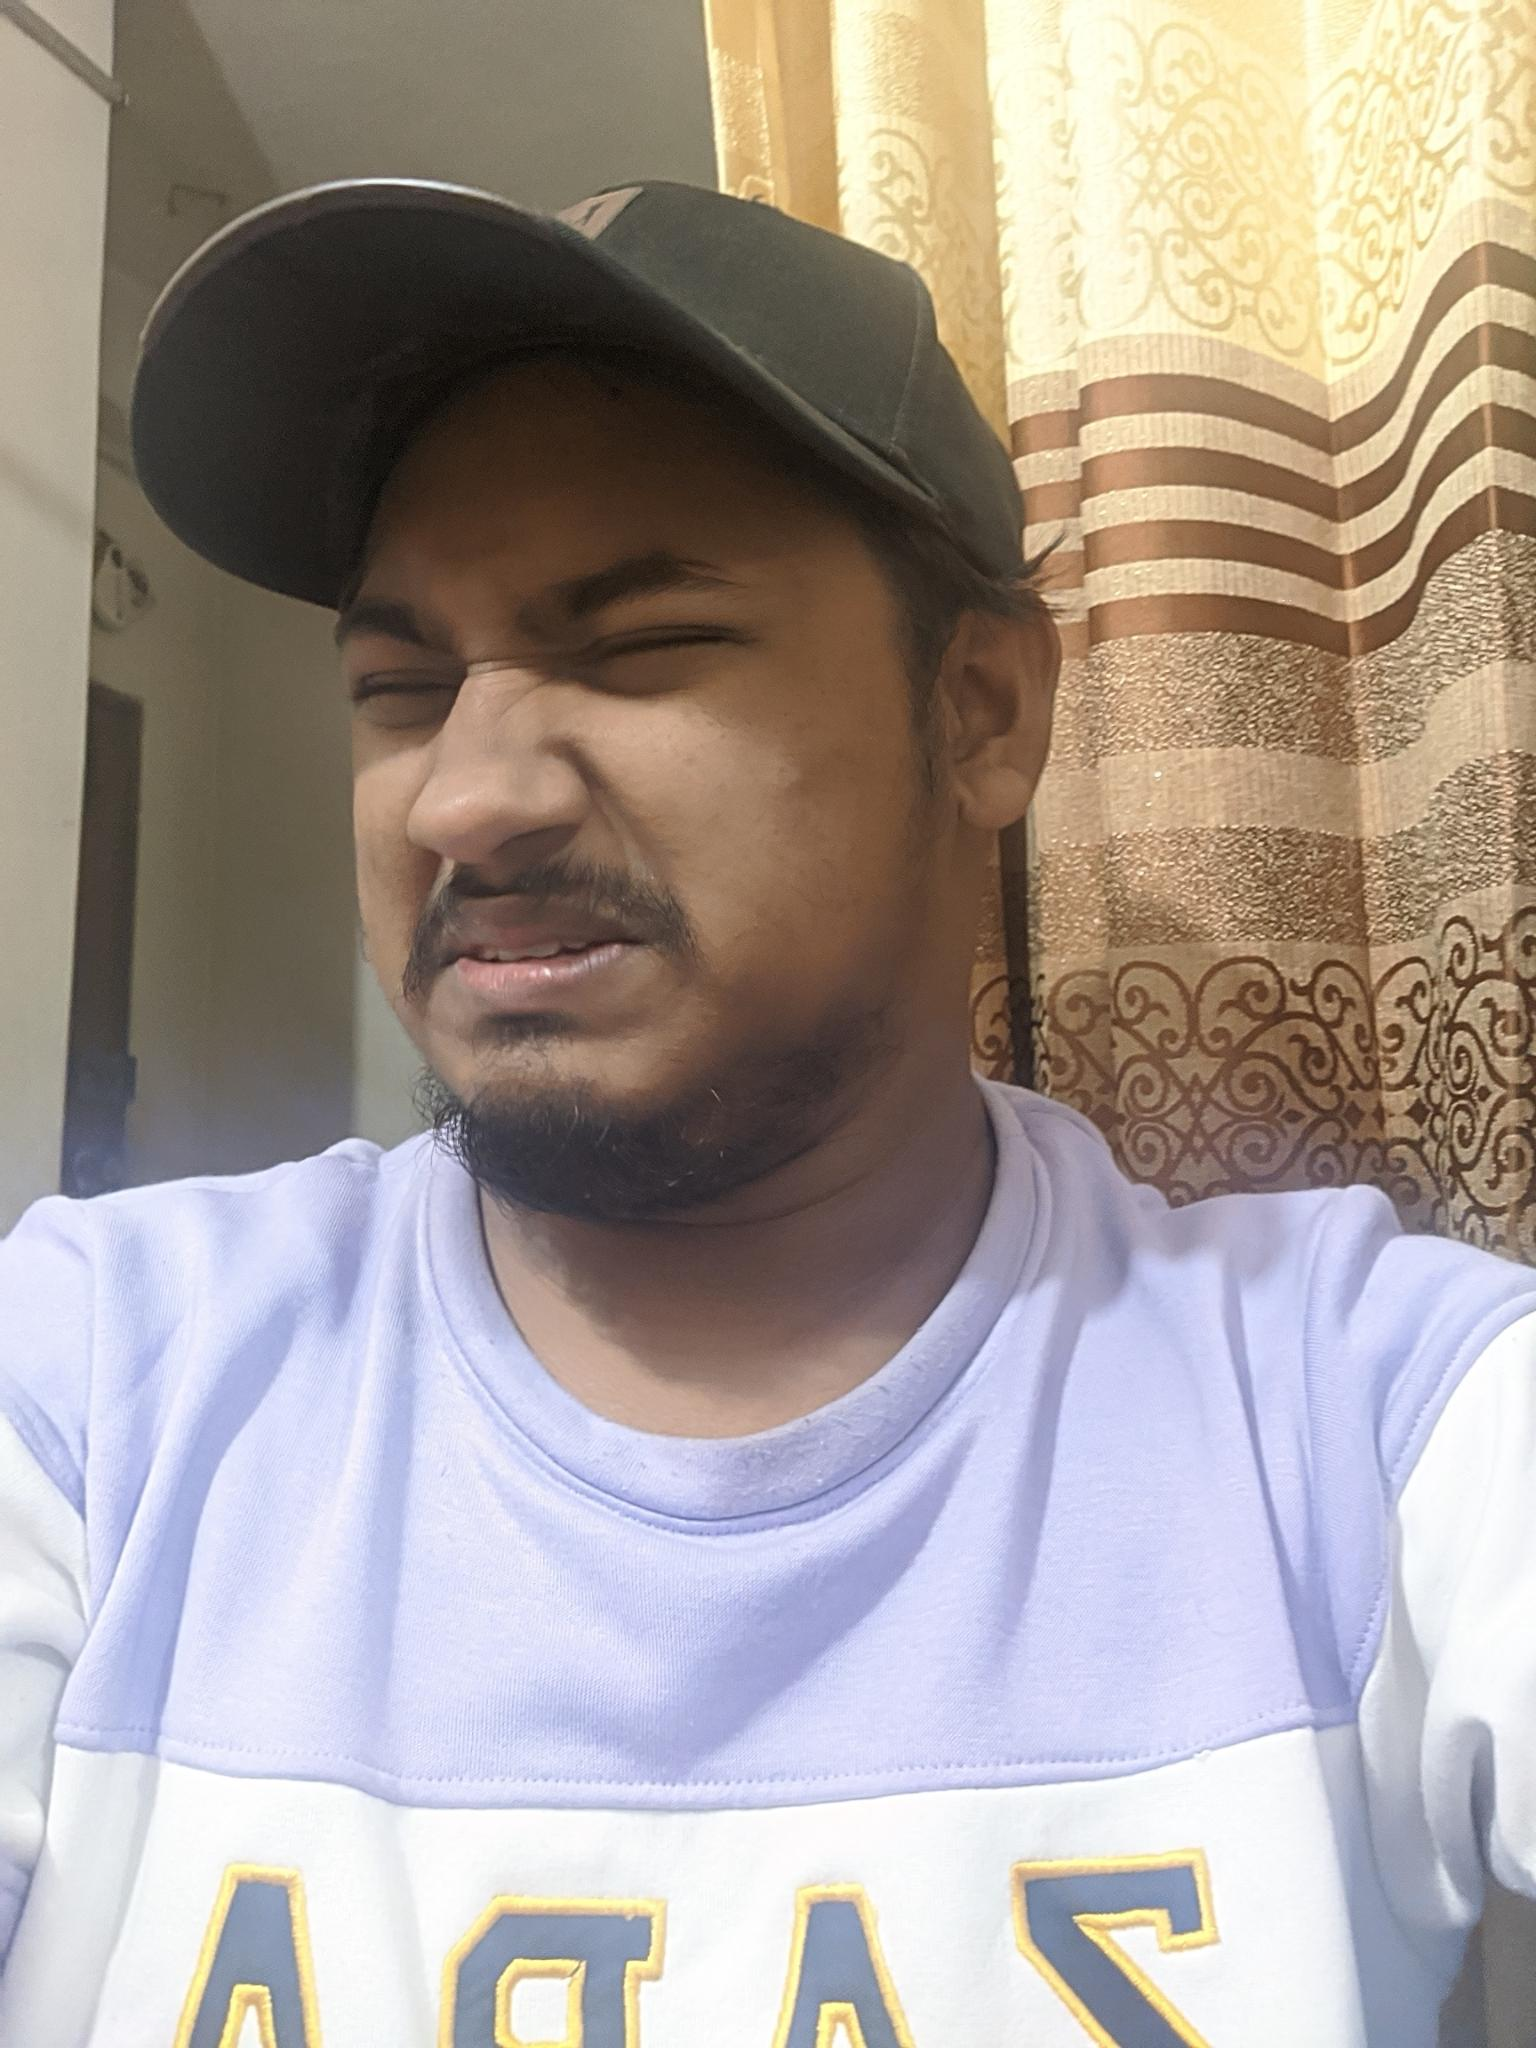Disgust: (263, 469, 902, 1151)
